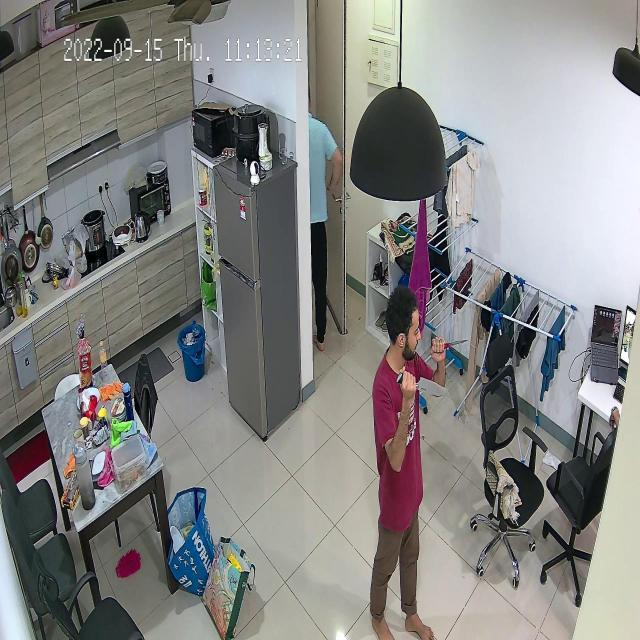Knife: (397, 370, 459, 412), (440, 336, 482, 360)
